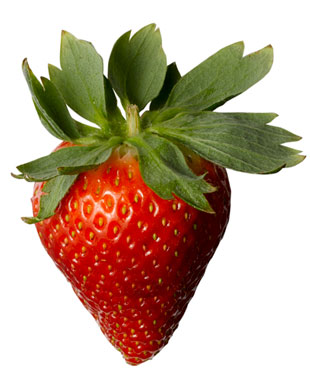strawberry: (29, 114, 236, 371)
